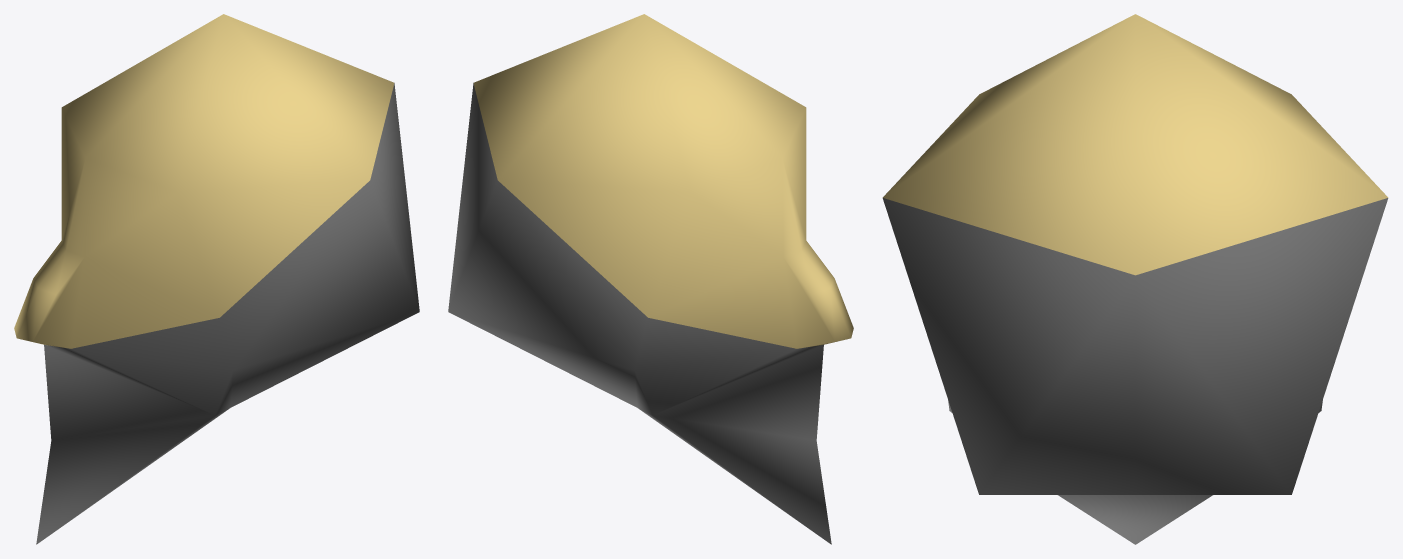
Rendered from OLDHEAD.fbx.
3 views of the same model, side by side, from view 1: azimuth 30°, elevation 25°; view 2: azimuth 150°, elevation 25°; view 3: azimuth 270°, elevation 25° (orthographic). The views are drawn at different scales.
Visible parts, largest first — view 1: Icosphere; view 2: Icosphere; view 3: Icosphere.
Part boxes in pixels (x1=…): Icosphere: x1=14, y1=14, x2=419, y2=544; Icosphere: x1=448, y1=14, x2=853, y2=544; Icosphere: x1=882, y1=14, x2=1388, y2=544.
Size of the model in its own units: 198 by 243 by 170.
